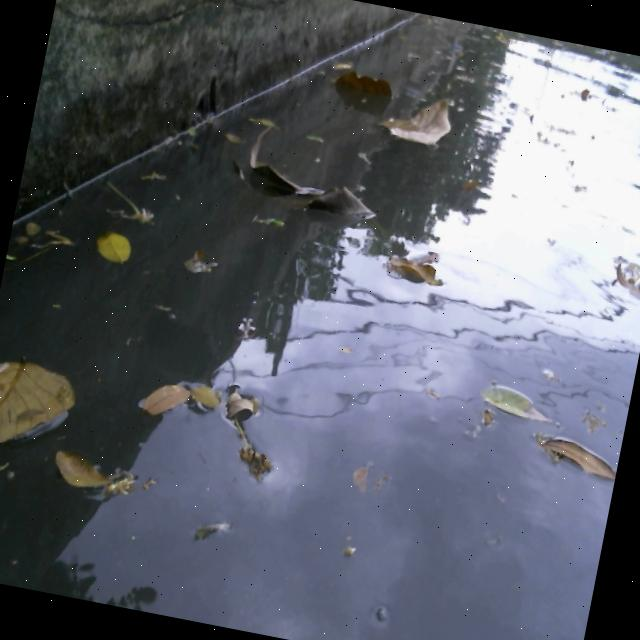Big-leaf: (228, 110, 399, 246), (0, 350, 84, 481), (389, 87, 479, 165), (381, 239, 455, 309), (317, 71, 392, 117)
Small-leaf: (462, 359, 557, 430), (528, 429, 621, 489), (77, 216, 142, 297), (48, 444, 113, 511), (166, 235, 221, 309), (134, 372, 197, 427), (178, 509, 234, 568), (338, 443, 386, 509), (217, 388, 261, 439), (313, 35, 359, 75), (280, 125, 327, 162), (188, 387, 220, 426), (17, 213, 45, 246), (213, 120, 243, 149), (46, 230, 68, 252), (475, 419, 498, 438)
